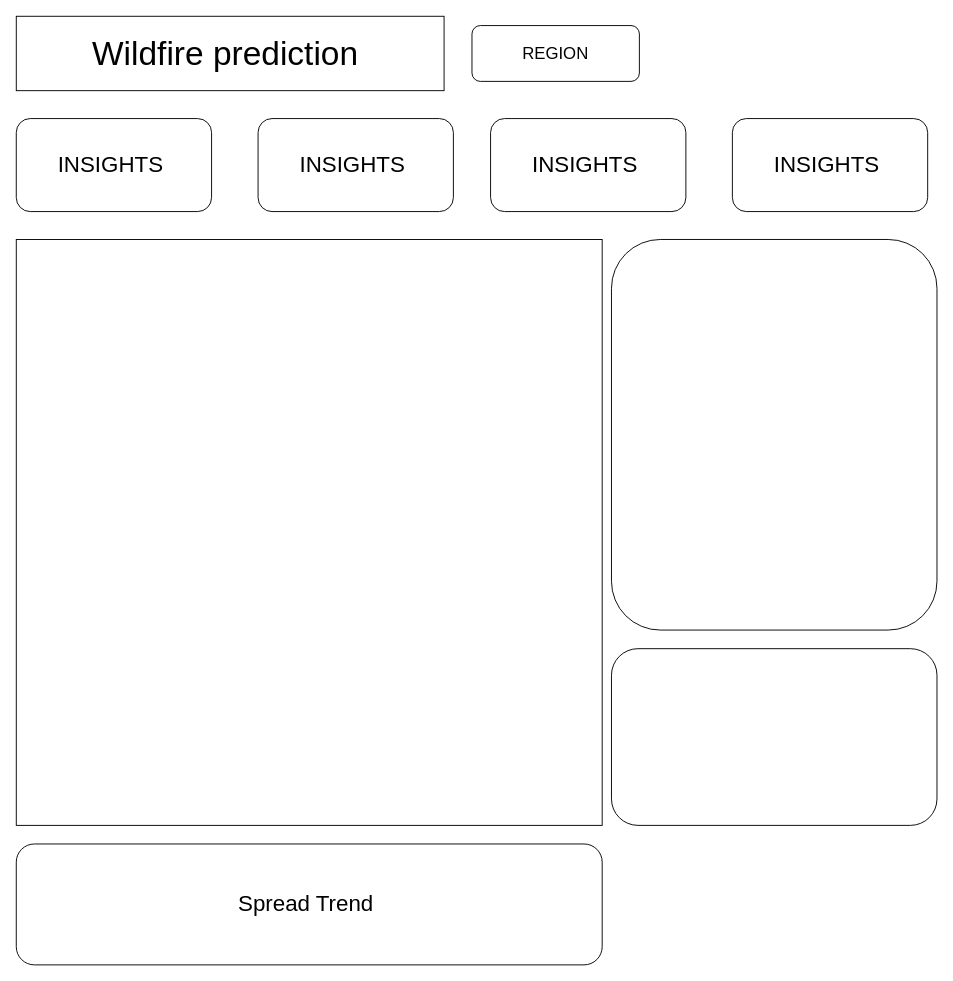
This 953x981 diagram has some shape labels left out. Each missing label, with the box of its shape:
Driving Factors: (611, 648, 937, 825)
MAP: (15, 239, 602, 825)
Spread Forecast Details: (611, 239, 937, 630)
